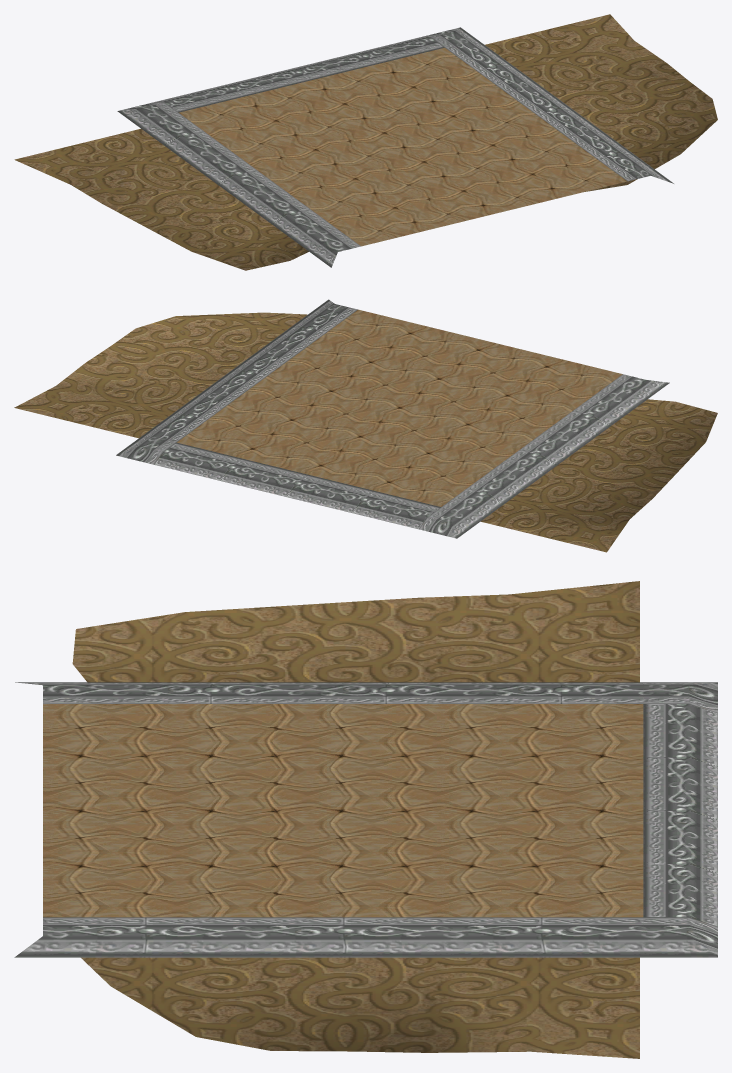
File: EKH_THRONE_PS_TH_FLOOR847846__GX.fbx
The picture shows the model from 3 angles, top to bottom: view 1: azimuth 30°, elevation 25°; view 2: azimuth 150°, elevation 25°; view 3: azimuth 270°, elevation 25°; orthographic projection. The views are drawn at different scales.
Parts seen in each view (by area): view 1: EKH_THRONE_PS_TH_FLOOR847846__GX; view 2: EKH_THRONE_PS_TH_FLOOR847846__GX; view 3: EKH_THRONE_PS_TH_FLOOR847846__GX.
Part boxes in pixels (<box>): EKH_THRONE_PS_TH_FLOOR847846__GX: <box>14,14,717,270</box>; EKH_THRONE_PS_TH_FLOOR847846__GX: <box>14,299,717,552</box>; EKH_THRONE_PS_TH_FLOOR847846__GX: <box>14,581,717,1058</box>.
Size of the model in its own units: 55014 by 521 by 34243.
Materials: 3 (3 with a texture image).
